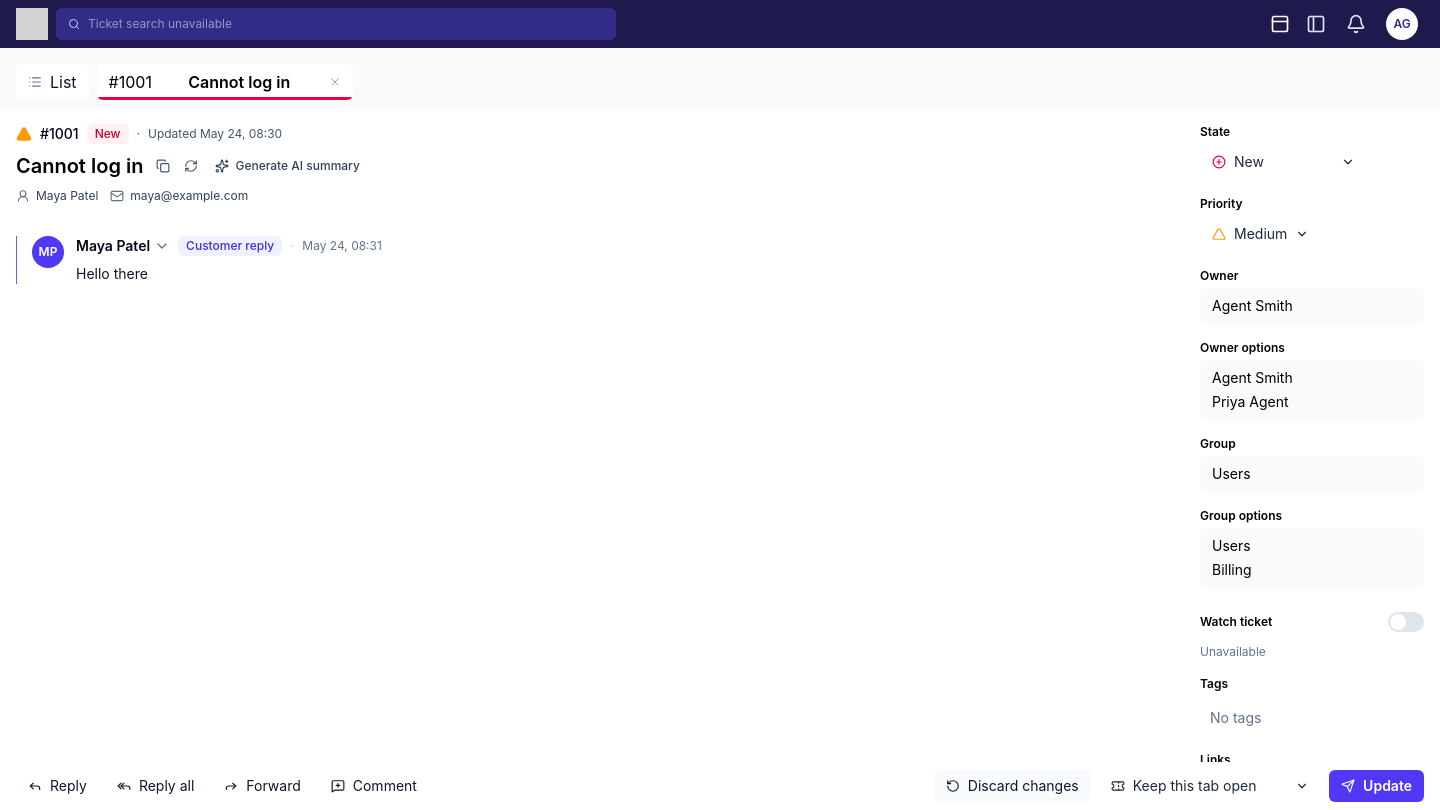
Test: TicketWorkspace metadata mutations › shows current new state while omitting new from the menu
Click the dropdown named "Ticket state" at (1284, 162), box [1200,144,1367,180]
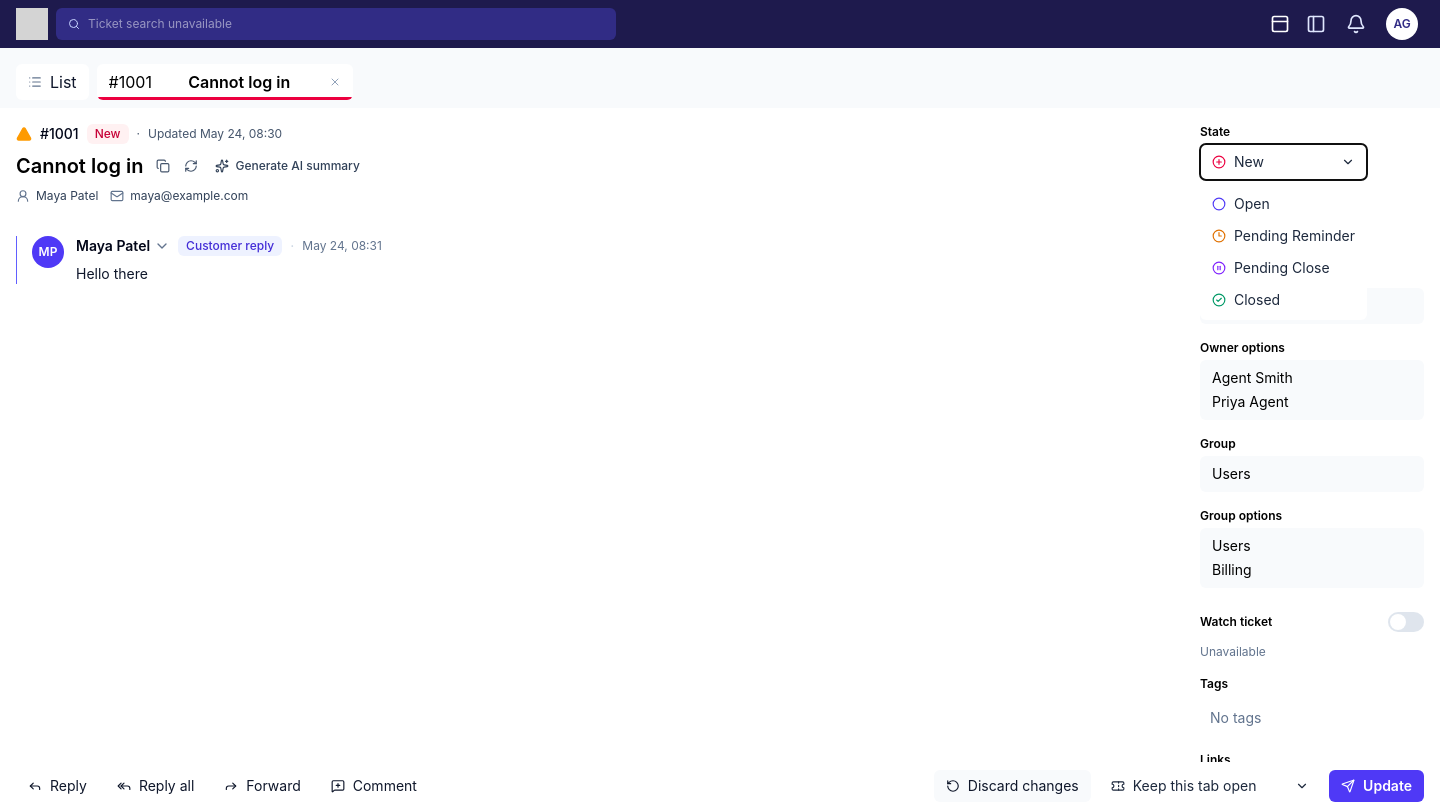
Result: the option "Open" is enabled at [1204,188,1363,220]
Result: the option "Pending Reminder" is enabled at [1204,220,1363,252]
